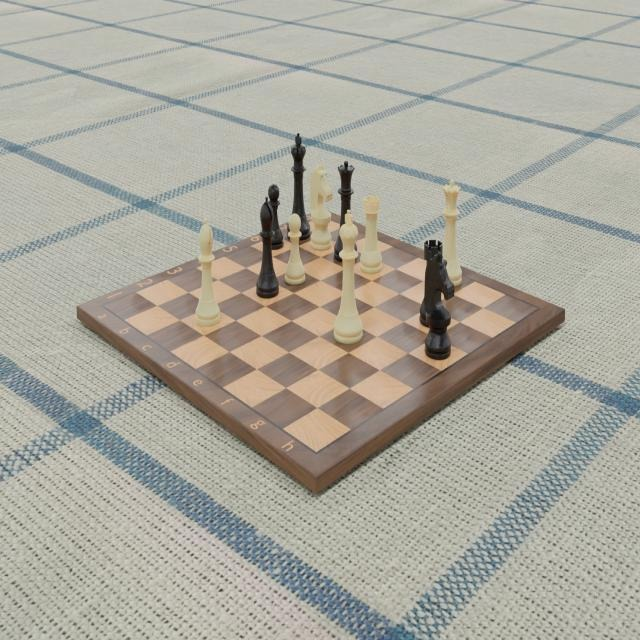black-bishop: (253, 195, 281, 301)
black-king: (287, 129, 312, 241)
black-knight: (421, 253, 455, 363)
black-pawn: (264, 181, 284, 251)
black-queen: (333, 157, 359, 262)
black-rook: (418, 236, 444, 328)
white-bishop: (194, 217, 222, 327)
white-king: (332, 208, 365, 348)
white-knight: (307, 162, 334, 251)
white-pawn: (282, 211, 308, 286)
white-queen: (438, 177, 466, 286)
white-rook: (358, 192, 383, 275)
